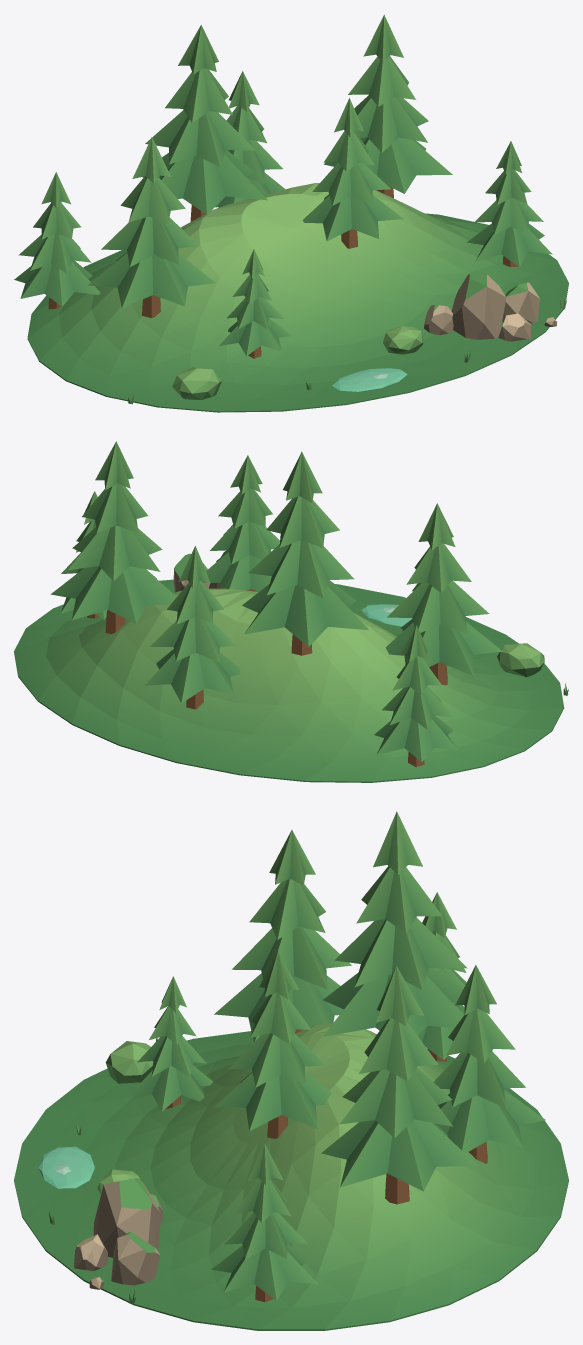
The model's file is ranch_border_chunk_h.fbx.
3 renders of one model, top to bottom at view 1: azimuth 30°, elevation 25°; view 2: azimuth 150°, elevation 25°; view 3: azimuth 270°, elevation 25°, orthographic. The views are drawn at different scales.
Parts seen in each view (by area): view 1: ranch_border_chunk_h; view 2: ranch_border_chunk_h; view 3: ranch_border_chunk_h.
Part boxes in pixels (x1,y1,x2,y2): ranch_border_chunk_h: [14, 15, 568, 412]; ranch_border_chunk_h: [14, 441, 568, 782]; ranch_border_chunk_h: [14, 811, 568, 1330].
Size of the model in its own units: 53.61 by 28.24 by 42.
